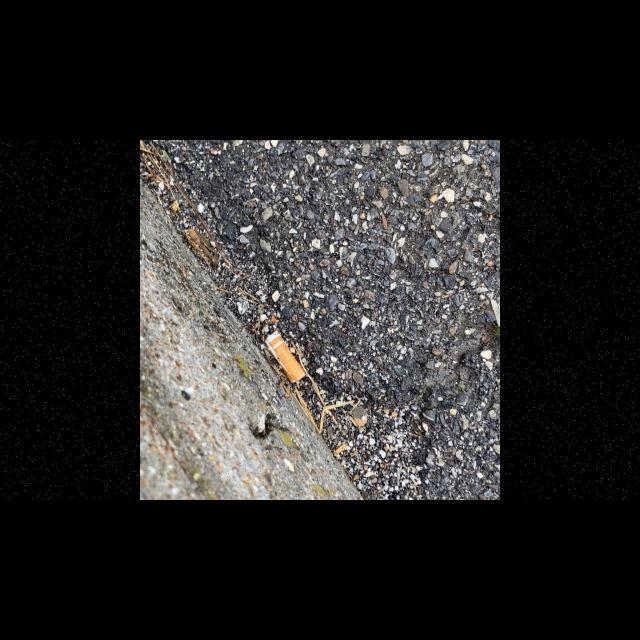cigarette: (265, 330, 306, 383)
